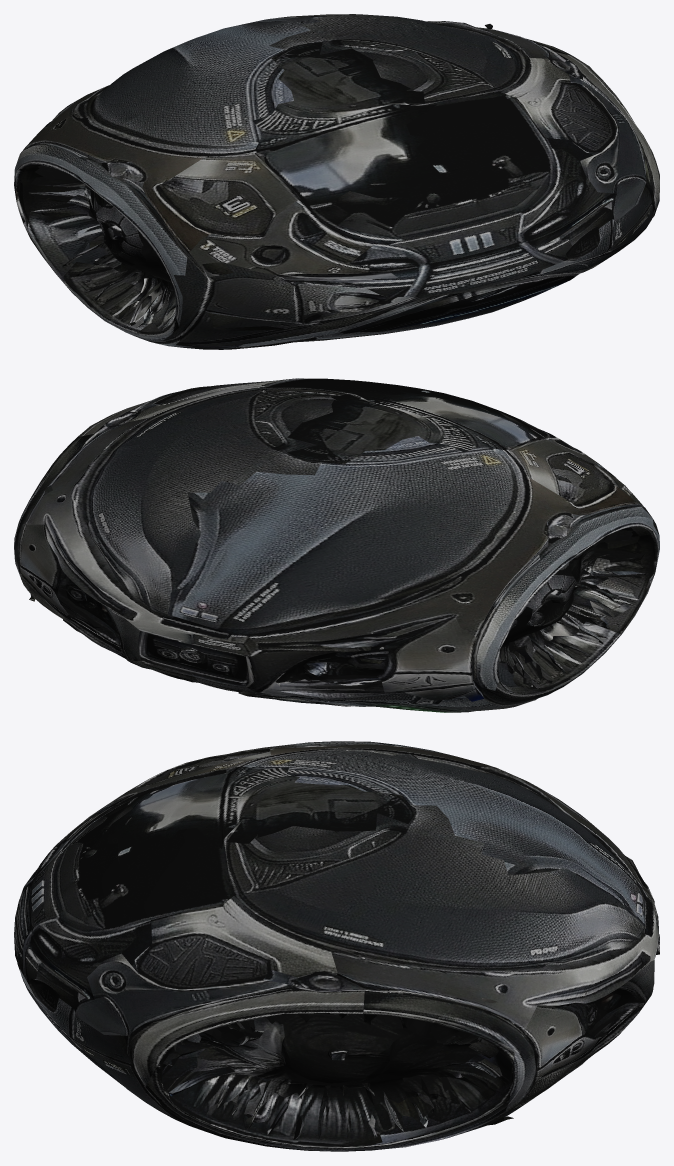
The model's file is orb.glb.
The picture shows the model from 3 angles, top to bottom: view 1: azimuth 30°, elevation 25°; view 2: azimuth 150°, elevation 25°; view 3: azimuth 270°, elevation 25°; orthographic projection. The views are drawn at different scales.
Parts seen in each view (by area): view 1: geometry_0; view 2: geometry_0; view 3: geometry_0.
Boxes of the visible parts, x1,y1,x2,y2 form: geometry_0: [14, 14, 659, 349]; geometry_0: [14, 378, 659, 712]; geometry_0: [14, 741, 659, 1151].
Size of the model in its own units: 6.09 by 2.53 by 6.2.
1 material, 1 textured.
